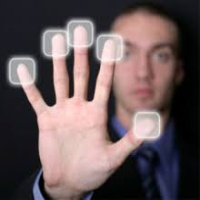ring: (44, 28, 74, 100)
